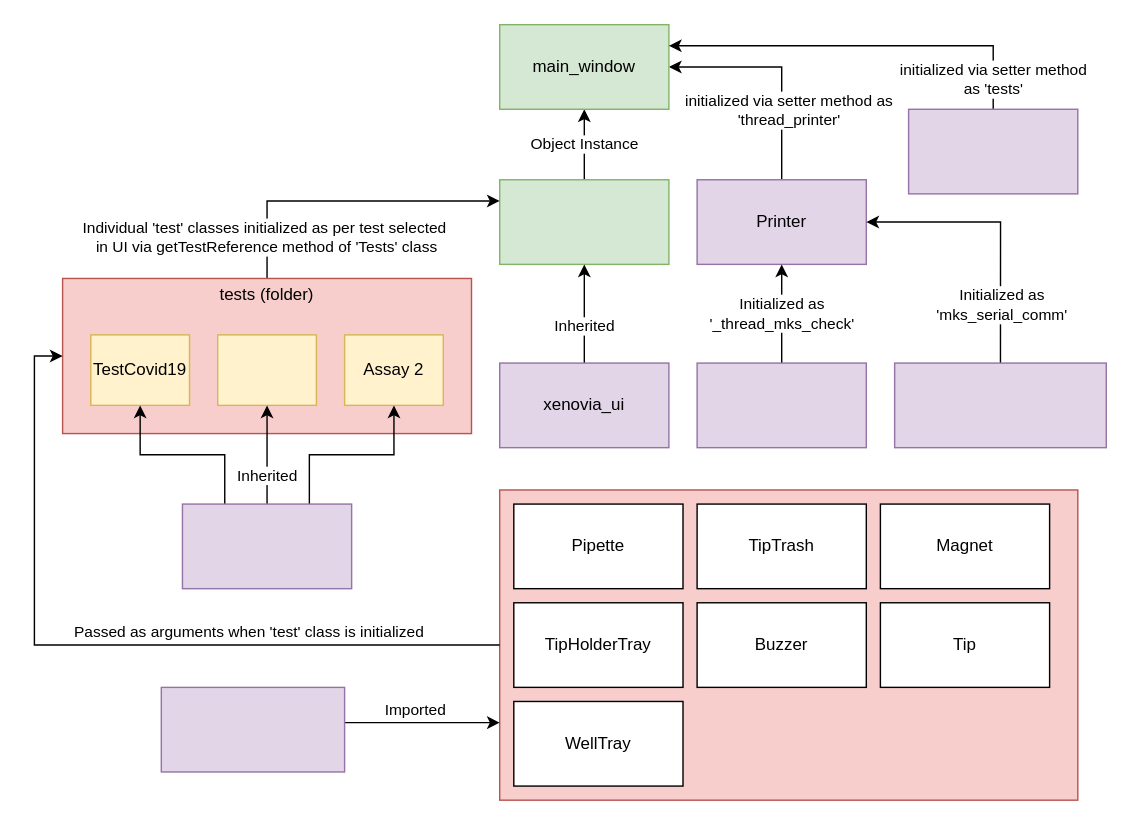
Image size: 1132x825. Some labels were removed from this diagram. The centre of each missing label's shape, as x and y in pixels:
Assay 1: pixel 266 369
MainUI: pixel 583 221
MechanicalParameters: pixel 252 729
MKSCheck: pixel 781 405
MKSSerialCommunication: pixel 999 405
TestBase: pixel 266 546
Tests: pixel 992 151
